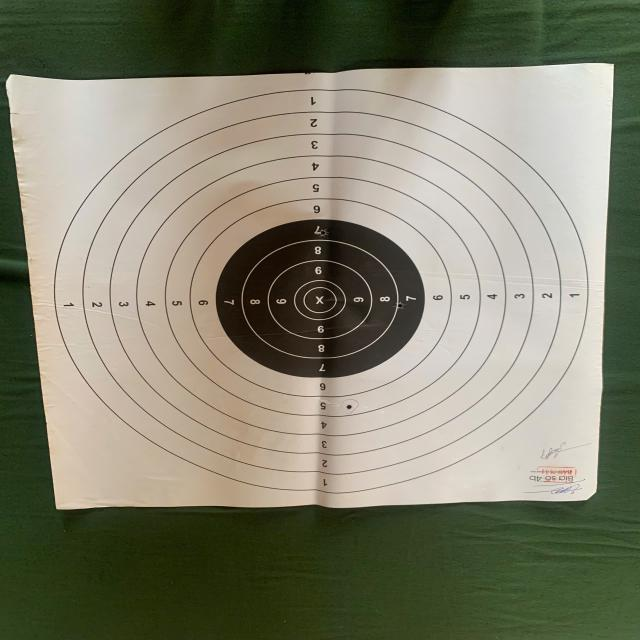bullet: (319, 230, 327, 236), (398, 302, 405, 308), (347, 404, 352, 410)
target: (8, 64, 613, 509)
